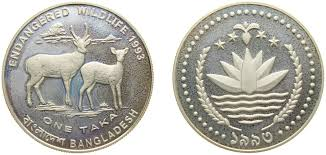1_takar_coin: (172, 2, 325, 153), (1, 2, 153, 153)
